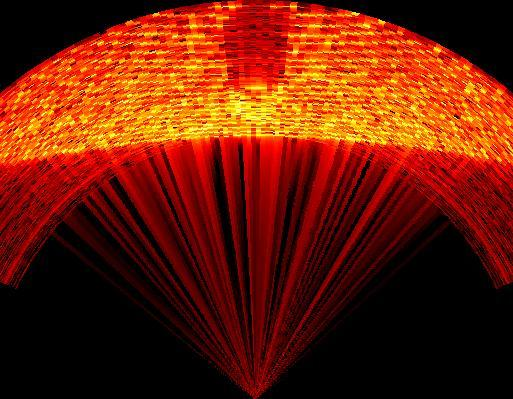box_crate: (221, 9, 292, 94)
